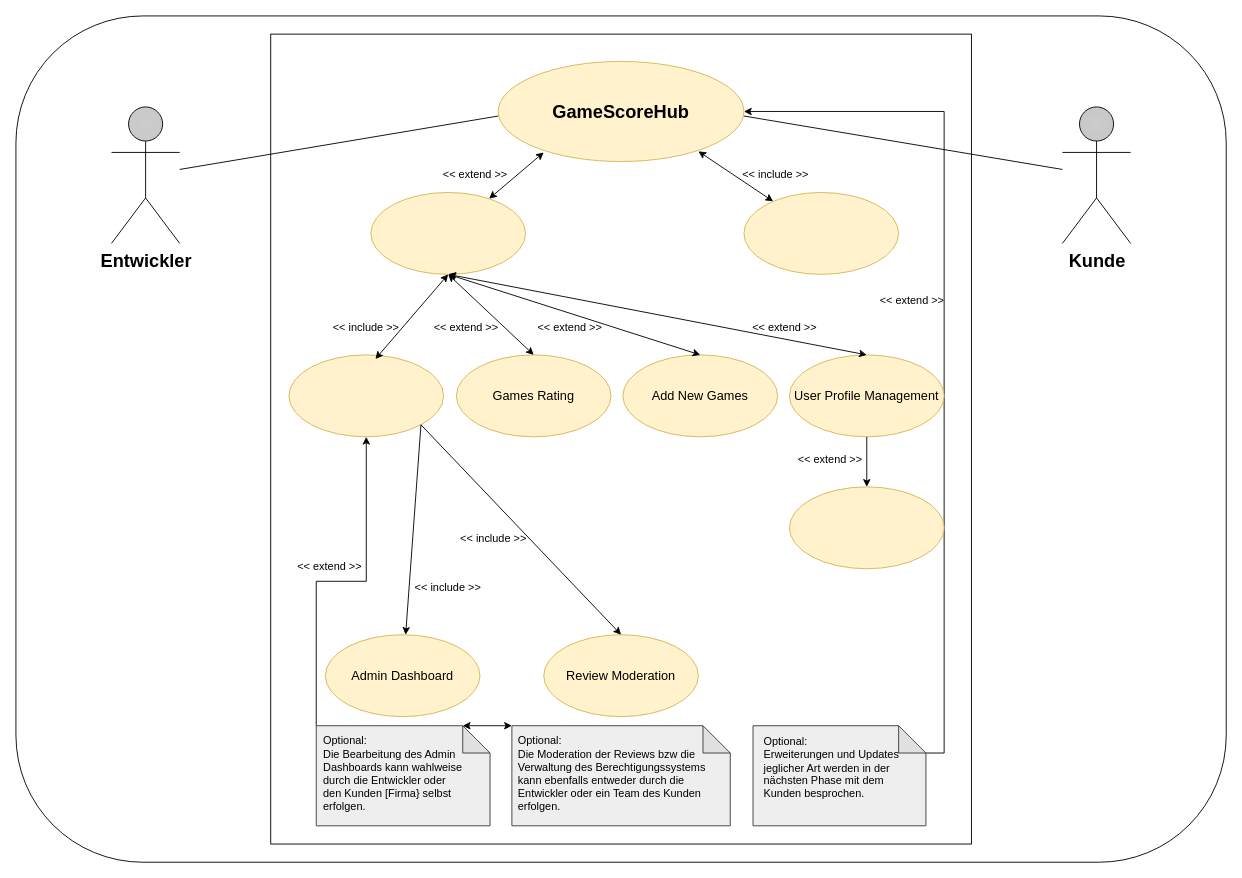
This 1242x878 diagram has some shape labels left out. The box of each missing label's shape, as (x1, y1, x2, y2) in pixels:
Berechtigungssystem: (288, 354, 444, 437)
nach Spielen und Kategorien suchen: (743, 192, 899, 274)
Notfication System: (789, 486, 944, 569)
User Registration / Login: (370, 192, 526, 274)
